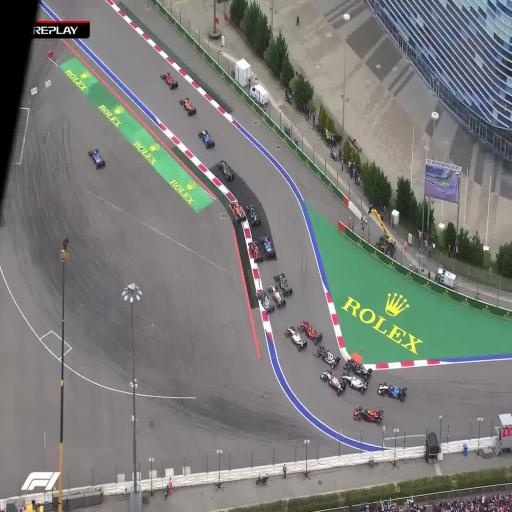f1_car: (321, 369, 346, 395), (313, 345, 340, 368), (343, 358, 372, 379), (298, 320, 322, 344), (284, 326, 307, 350), (378, 382, 407, 401), (353, 406, 383, 424), (341, 374, 368, 393), (267, 284, 285, 308), (274, 272, 292, 295), (257, 290, 275, 313), (260, 236, 276, 258), (218, 160, 234, 181), (230, 201, 246, 222), (179, 97, 196, 116), (89, 148, 105, 168), (246, 205, 261, 226), (161, 72, 178, 89), (198, 129, 214, 147), (249, 241, 262, 262)
